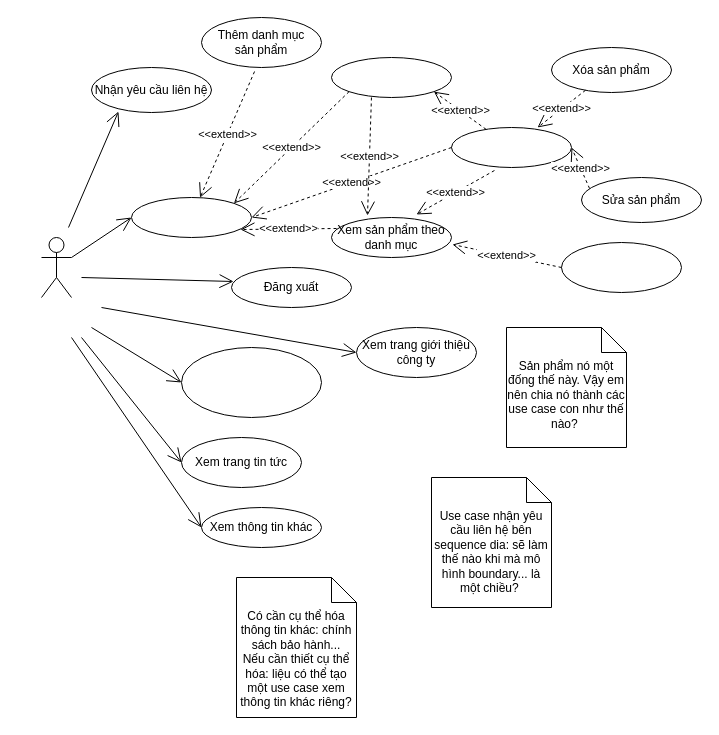
This 719x735 diagram has some shape labels left out. Each missing label, with the centre of its shape:
Nhà phân phối: [56,267]
Thêm sản phẩm: [621,267]
Tìm kiếm sản phẩm: [391,77]
Xem chi tiết sản phẩm: [511,147]
Xem trang sản phẩm: [191,217]
Xem trang thông tin liên hệ nhà phân phối: [251,382]
